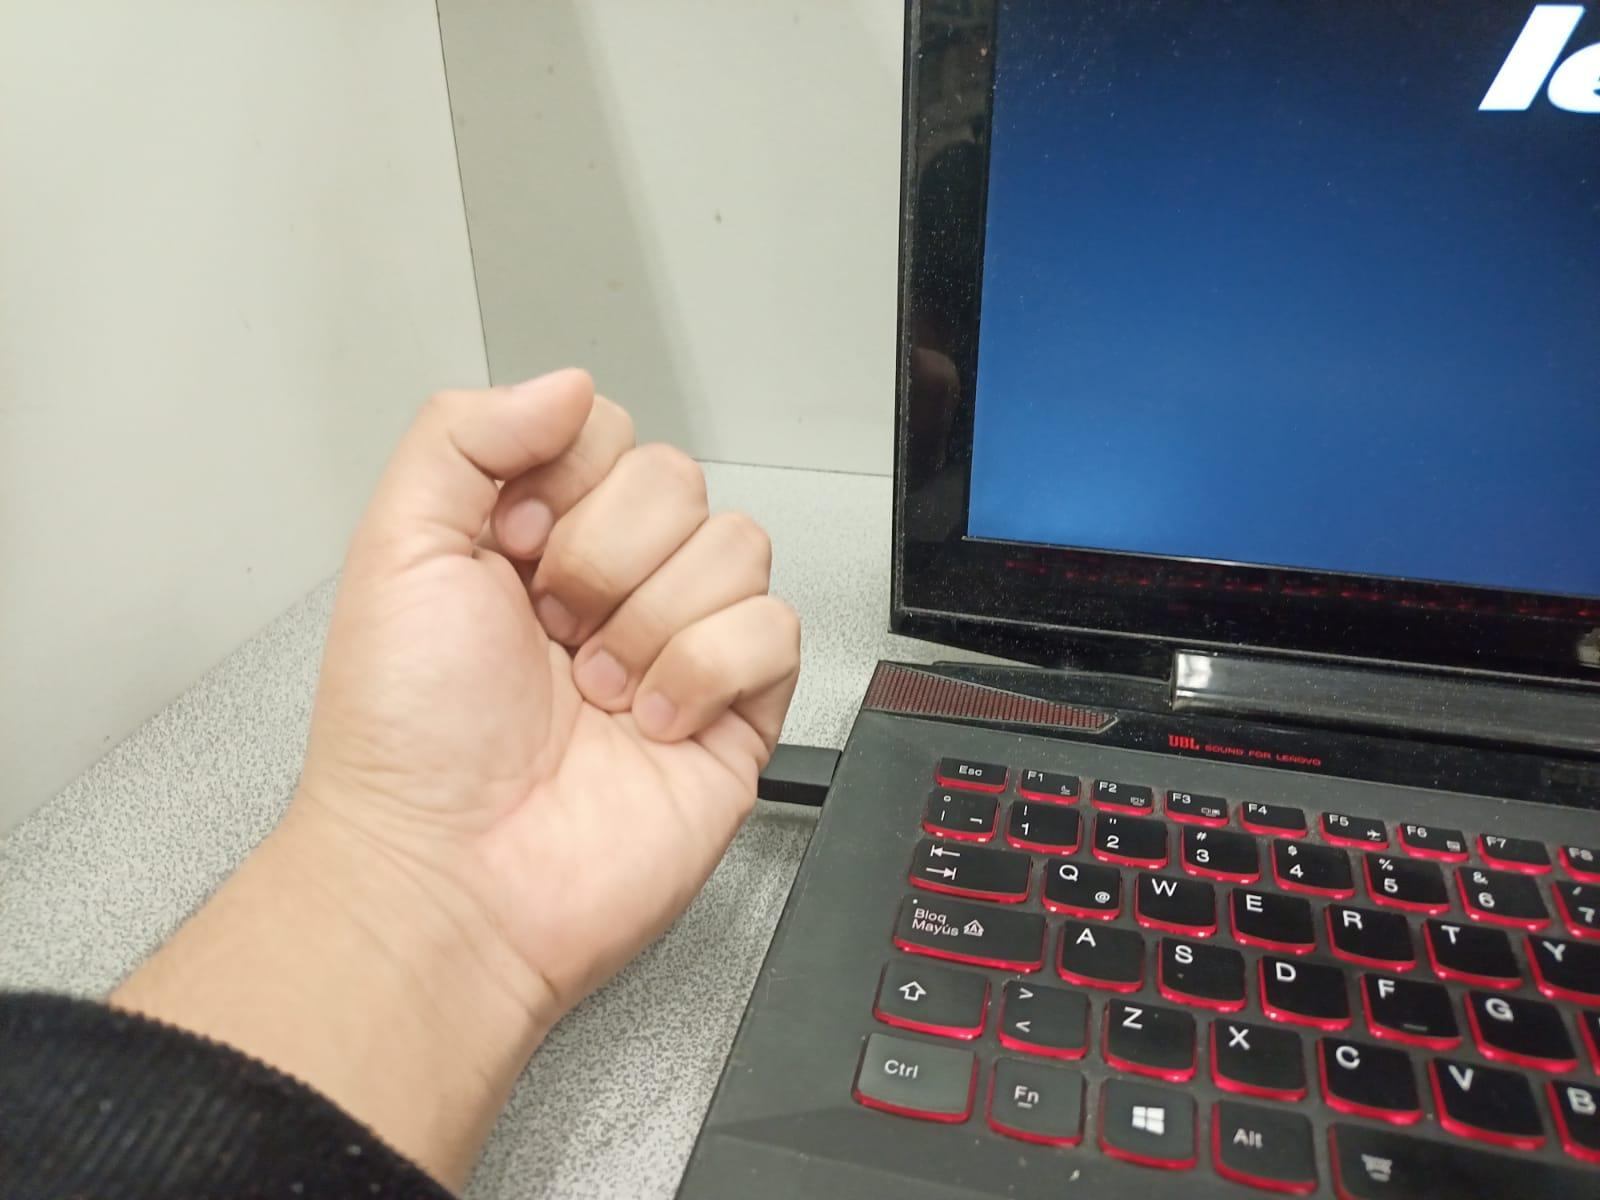Stone: (301, 350, 844, 988)
